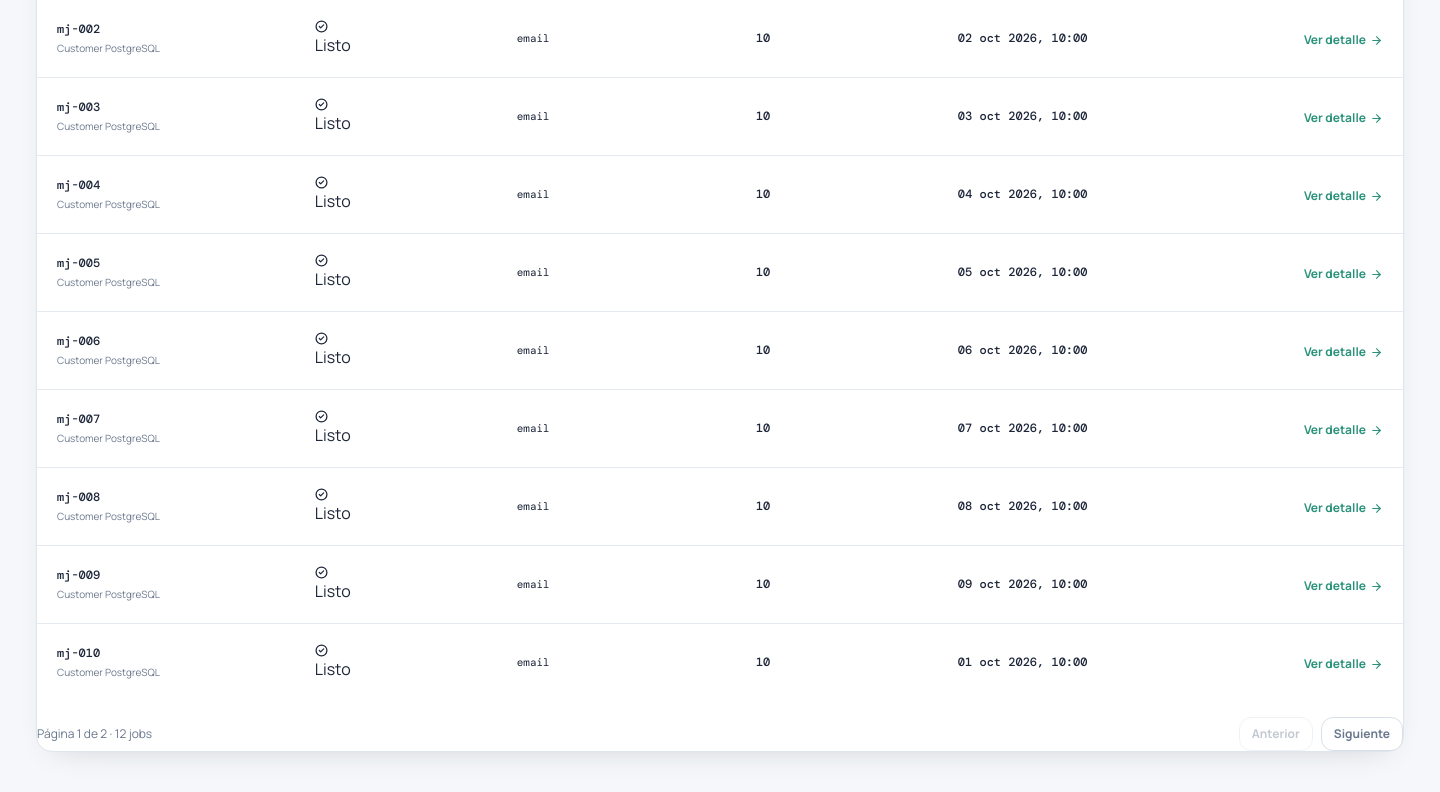
MaskingPage › paginates the history client-side (10 por página)
(page scrolled)
Expected: the text "Página 1 de 2 · 12 jobs" is shown, [37,726,152,742]
Expected: the button with test id "button-prev-page" is disabled, [1239,716,1313,750]
Click the button with test id "button-next-page" at point(1362, 734), box [1321,716,1403,750]
(page scrolled)
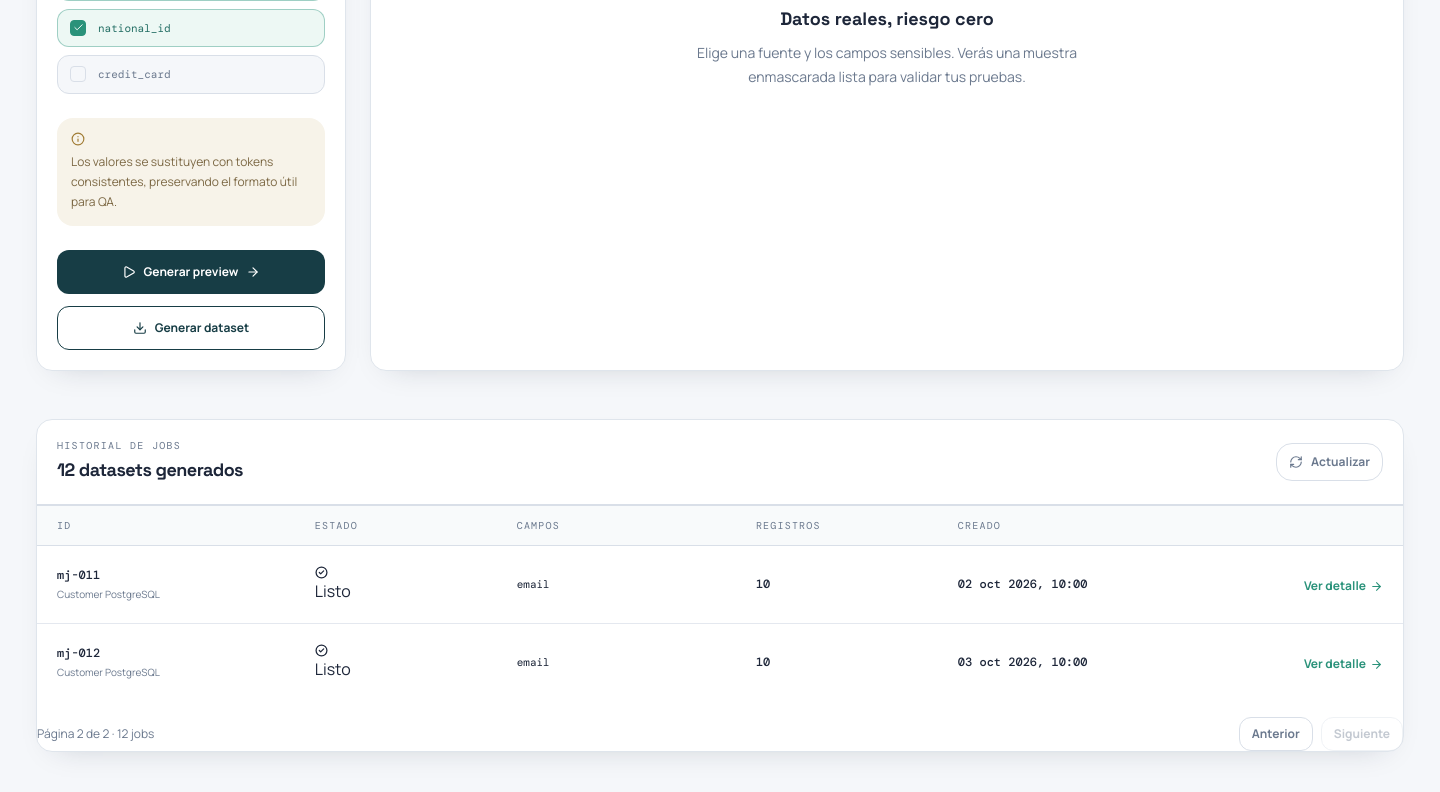
Expected: the text "Página 2 de 2 · 12 jobs" is shown, [37,726,154,742]
Expected: the button with test id "button-next-page" is disabled, [1321,716,1403,750]
